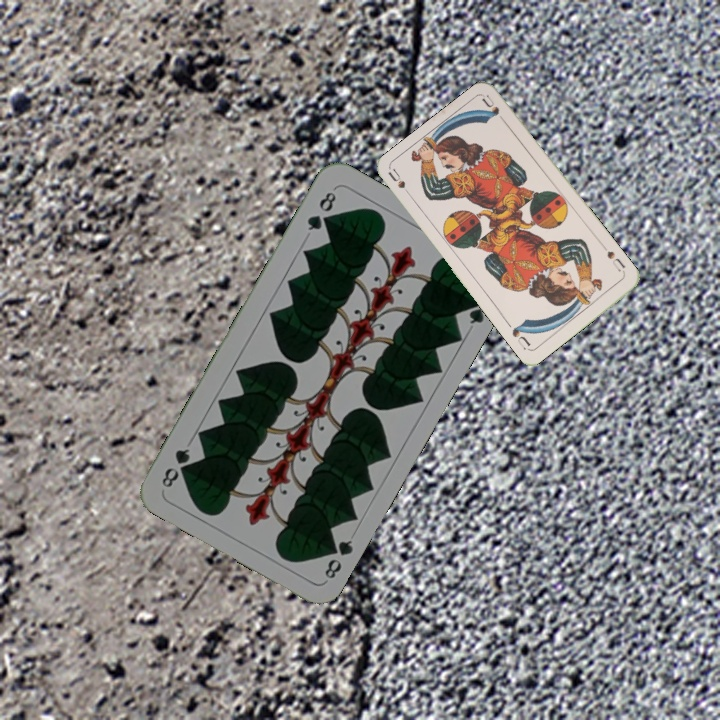G8: (320, 535, 356, 582), (303, 187, 339, 233)
SU: (385, 165, 416, 202), (599, 241, 628, 277)
